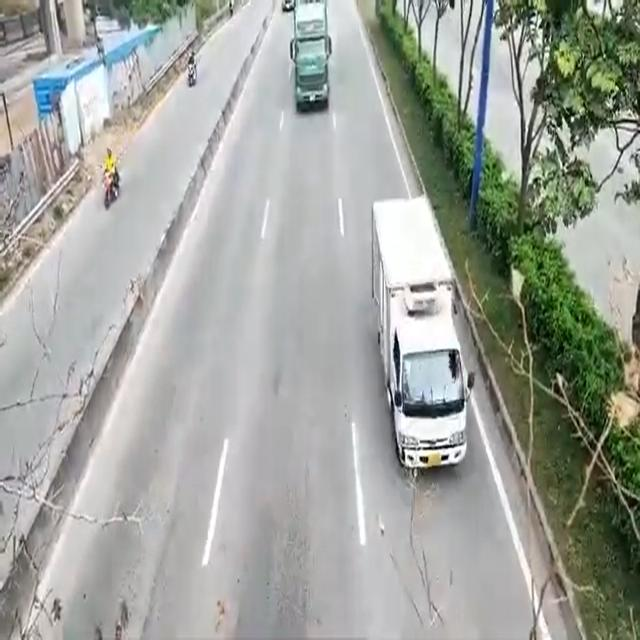motor: (98, 145, 125, 207)
truck: (369, 196, 474, 478), (293, 6, 329, 106)
